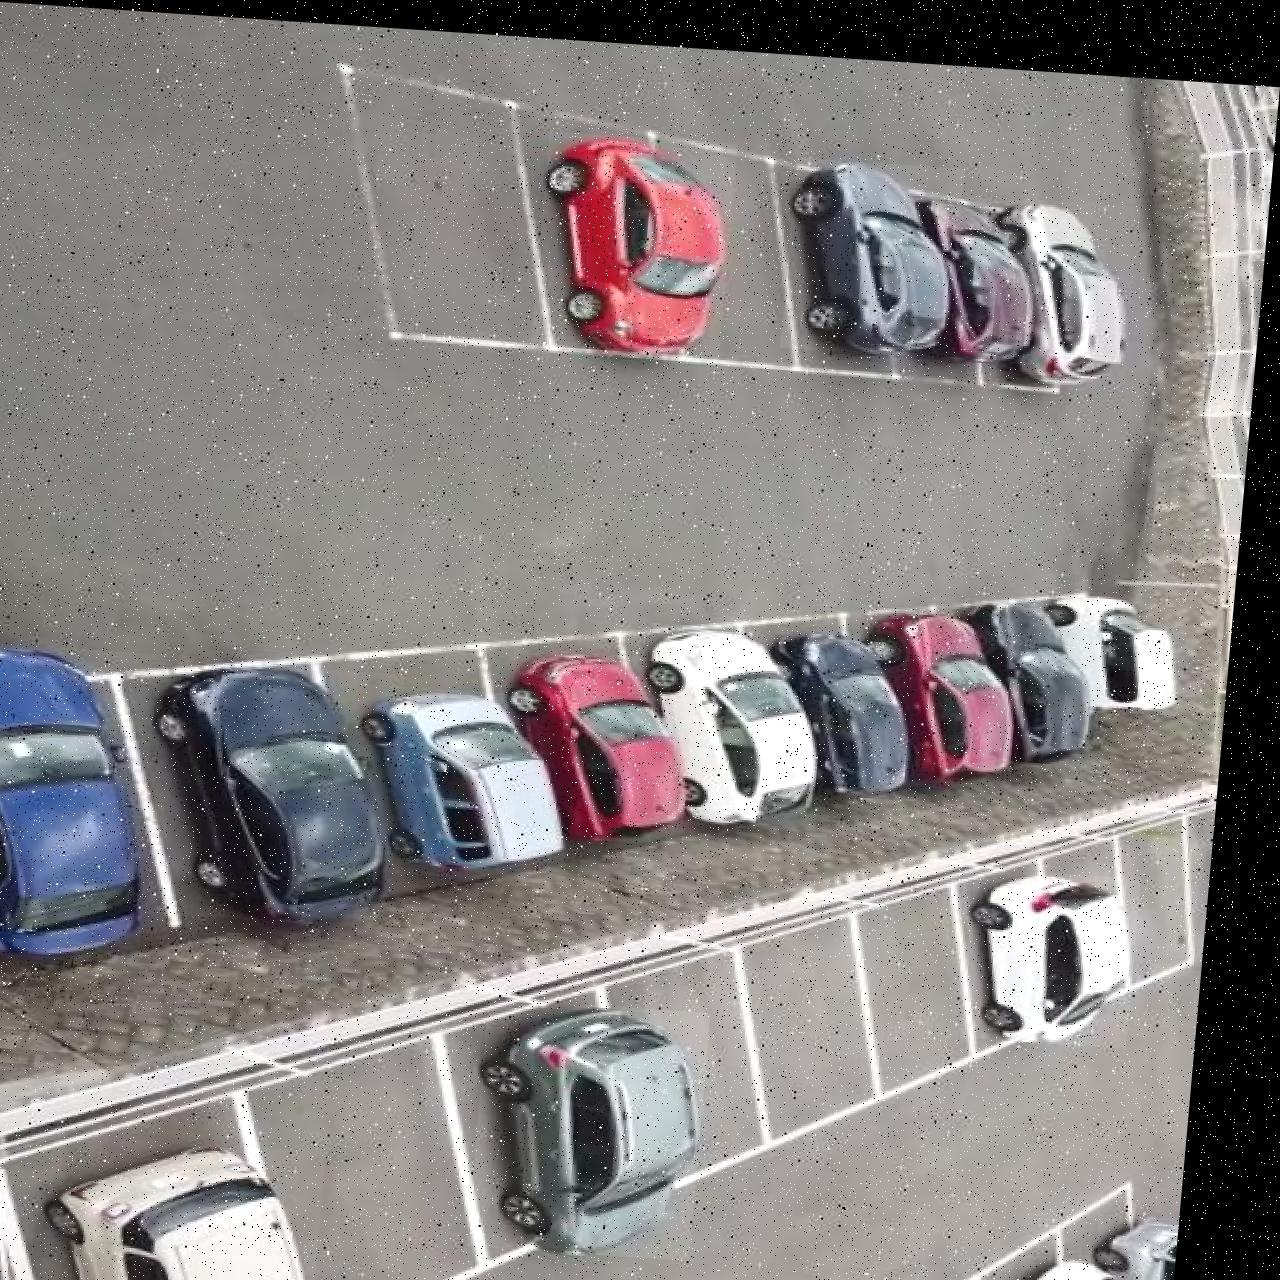car: (157, 655, 417, 922), (490, 990, 729, 1250), (0, 640, 177, 961), (537, 123, 740, 349), (363, 679, 592, 876), (64, 1132, 347, 1280), (649, 613, 844, 821), (512, 640, 712, 836), (785, 147, 967, 345), (979, 853, 1156, 1032), (866, 594, 1036, 772), (986, 183, 1143, 373), (775, 615, 934, 785), (964, 583, 1112, 748), (907, 181, 1049, 349), (1048, 576, 1198, 699), (1016, 629, 1110, 748), (1111, 1197, 1200, 1280), (1036, 1239, 1176, 1280), (947, 1279, 1078, 1280)
